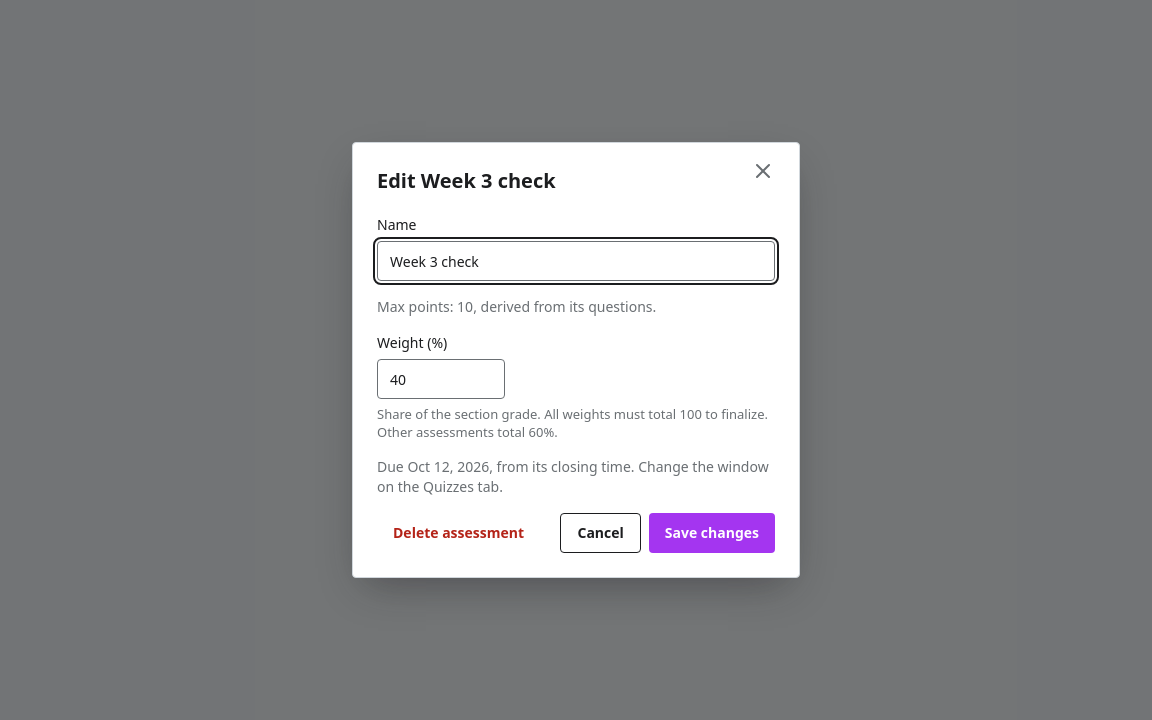
Scenario: deleting a quiz names its attempts
Step 1. Click the button "Delete assessment" → [458, 533], box top-left (377, 513), bottom-right (540, 553)
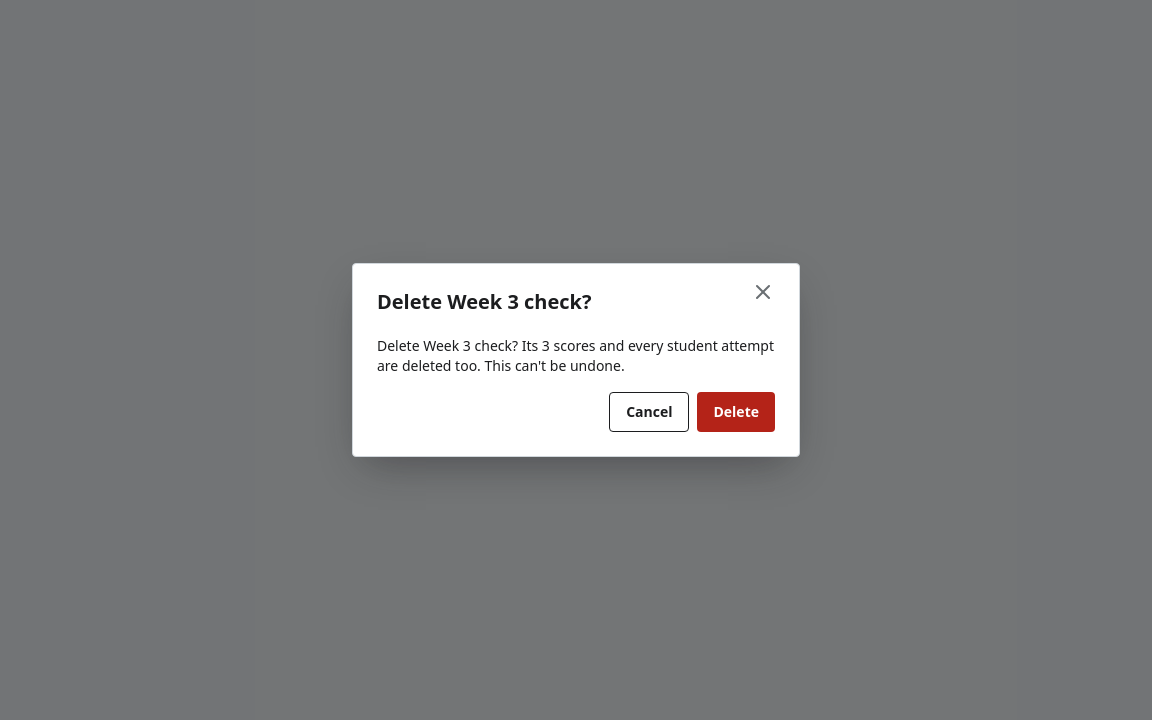
Expected: the text "Its 3 scores and every student attempt are deleted too" is shown, top-left (377, 336), bottom-right (775, 376)
